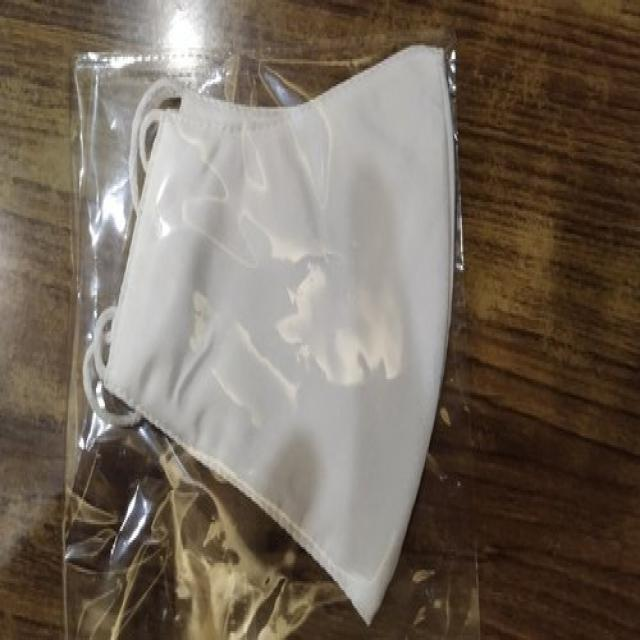face mask: (79, 43, 462, 636)
